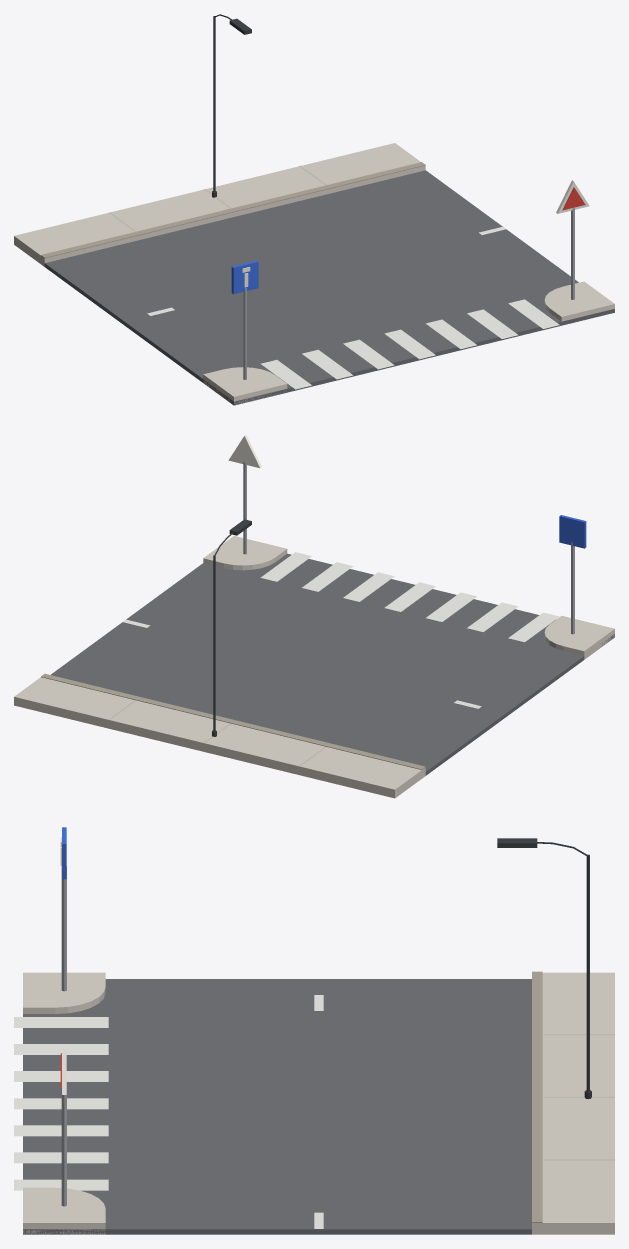
The model's file is Yol_t_intersection_01_Hafif.fbx.
3 views of the same model, one above another, from view 1: azimuth 30°, elevation 25°; view 2: azimuth 150°, elevation 25°; view 3: azimuth 270°, elevation 25° (orthographic). The views are drawn at different scales.
Visible parts, largest first — view 1: Yol_t_intersection_01_Hafif; view 2: Yol_t_intersection_01_Hafif; view 3: Yol_t_intersection_01_Hafif.
Part boxes in pixels (x1,y1,x2,y2): Yol_t_intersection_01_Hafif: (14, 14, 614, 405); Yol_t_intersection_01_Hafif: (14, 435, 614, 798); Yol_t_intersection_01_Hafif: (14, 827, 614, 1234).
Size of the model in its own units: 10 by 5.01 by 10.15.
